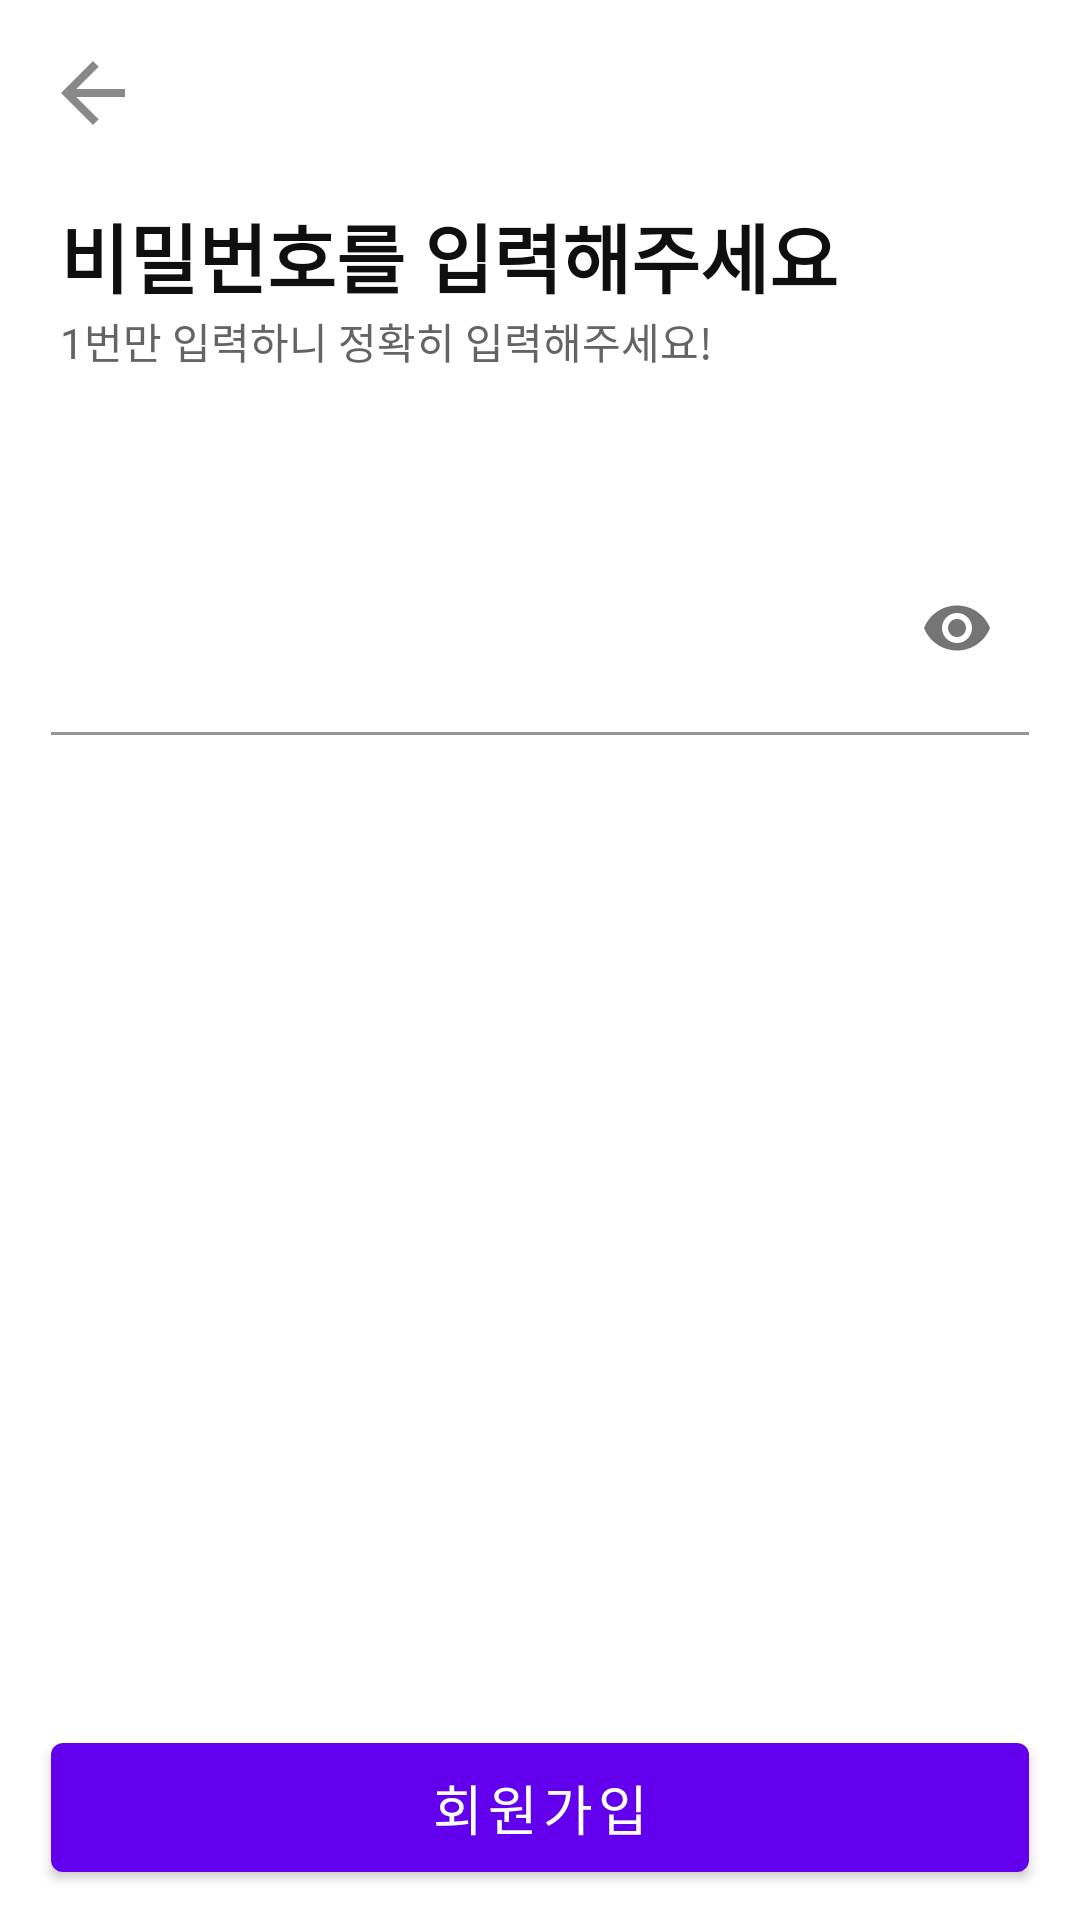

Icon bounding boxes for this 1080x1920 phone screenshot, format (x1, y1, x2, y2):
arrow back: (61, 61, 125, 125)
